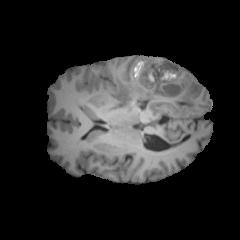glioma: (109, 57, 199, 111)
